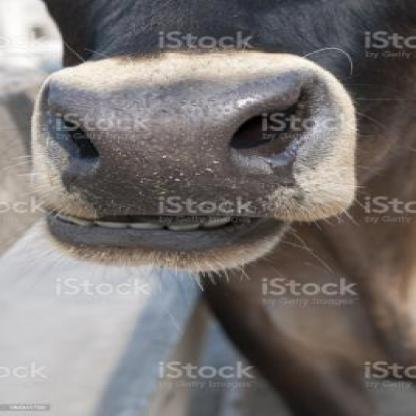lower: (133, 238, 168, 256)
mouth: (31, 57, 359, 273)
upper: (136, 131, 186, 162)
